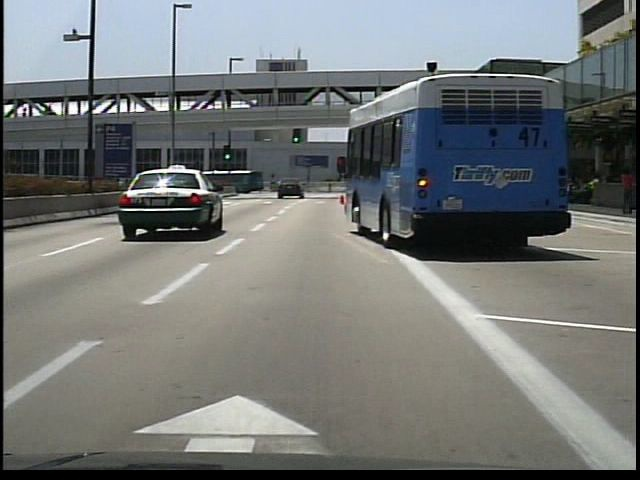person: (617, 165, 636, 218)
